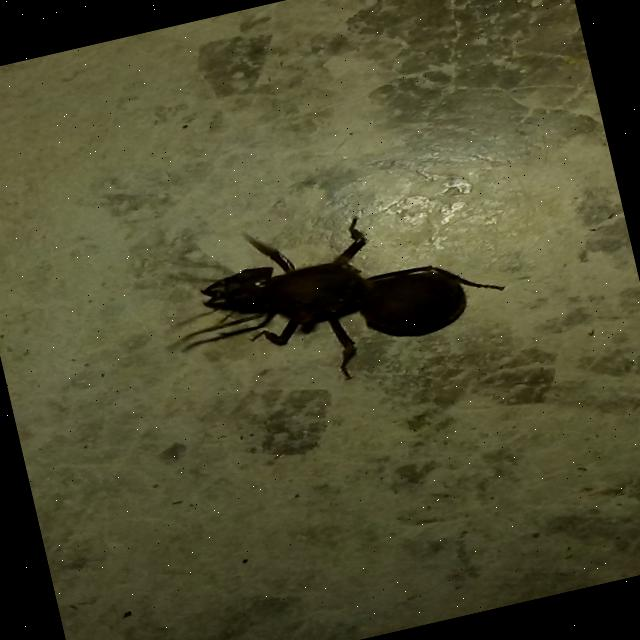Alive-Female-Dealate: (153, 180, 515, 414)
